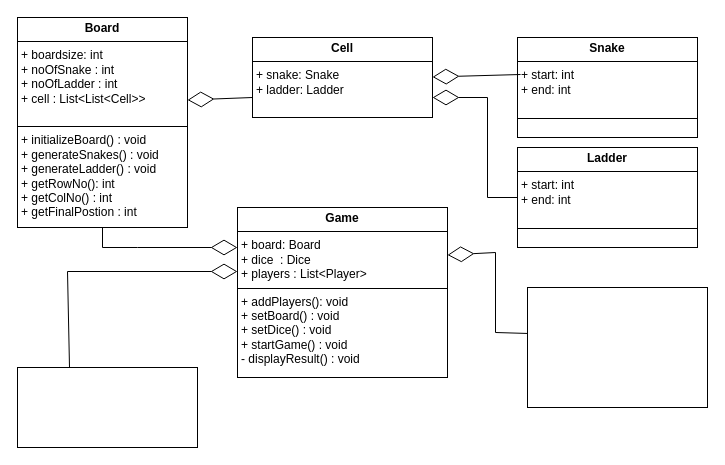
Some shapes in this 725 by 465 pixel diagram are drawn without their labels. The shapes that lost their labels are listed below. From the top down, each one's centre as x and y in pixels, then its label:
At (617,347): "Dice + count: int + rollDice() : int".
At (107,407): "Player - id: int - name: String - currentPosition: int".
